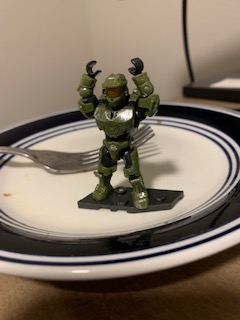chief: (75, 57, 162, 210)
spartan: (73, 55, 160, 208)
up: (71, 53, 160, 138)
